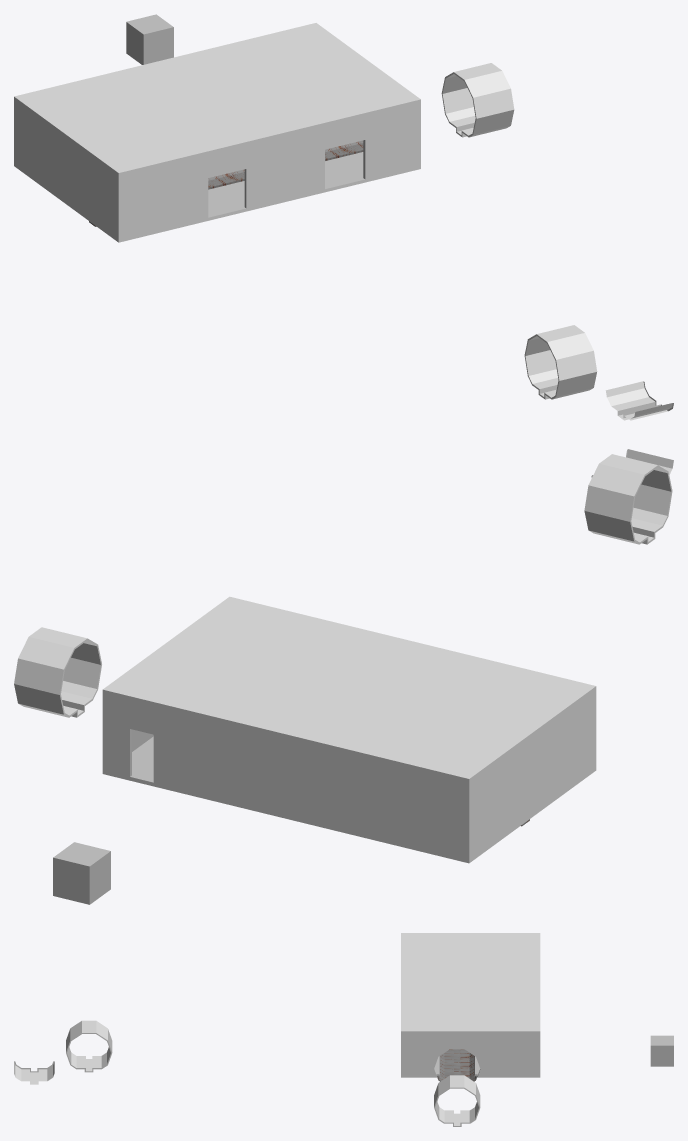
The model's file is loc1room1.gltf.
3 renders of one model, top to bottom at view 1: azimuth 30°, elevation 25°; view 2: azimuth 150°, elevation 25°; view 3: azimuth 270°, elevation 25°, orthographic. The views are drawn at different scales.
Parts seen in each view (by area): view 1: room1, Circle.002, Circle.004, Cube, Circle.003, Circle.001; view 2: room1, Circle.002, Circle.004, Cube; view 3: room1, Circle.004, Circle.002, Circle.001, Cube, Circle.003.
Boxes of the visible parts, x1,y1,x2,y2 form: room1: (14,23,420,242); Circle.002: (524,325,597,399); Circle.004: (441,63,514,137); Cube: (126,14,173,64); Circle.003: (605,381,673,420); Circle.001: (89,140,363,226); room1: (102,596,596,863); Circle.002: (584,454,672,544); Circle.004: (14,627,101,717); Cube: (53,842,110,904); room1: (401,933,540,1077); Circle.004: (434,1075,480,1126); Circle.002: (66,1020,112,1072); Circle.001: (437,1049,477,1081); Cube: (650,1035,673,1066); Circle.003: (14,1061,54,1084).
Bounding box in the file's own units: 27.81 × 6.24 × 56.82.
